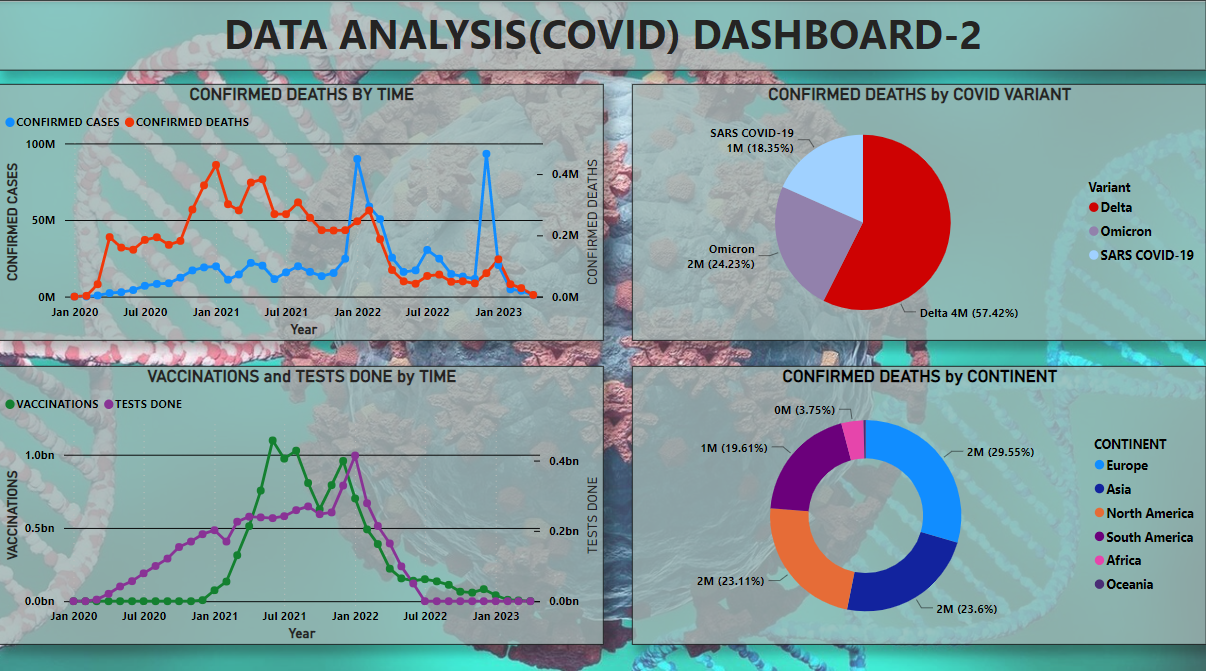

This screenshot's page, from the dashboard's own definition file:
{"tool":"powerbi","page":{"name":"Page 2","canvas":[1280,720],"ordinal":1},"visuals":[{"type":"textbox","box":[0,0,1279.5,74.7],"z":0},{"type":"lineChart","title":"CONFIRMED DEATHS BY TIME","fields":{"Category":["Cases and Deaths.date.Variation.Date Hierarchy.Year","Cases and Deaths.date.Variation.Date Hierarchy.Quarter","Cases and Deaths.date.Variation.Date Hierarchy.Month"],"Y":["Cases and Deaths.CONFIRMED CASES"],"Y2":["Cases and Deaths.CONFIRMED DEATHS"]},"box":[0,89,640.5,271.8],"z":1000},{"type":"pieChart","title":"CONFIRMED DEATHS by COVID VARIANT","fields":{"Category":["Cases and Deaths.Variant"],"Y":["Cases and Deaths.CONFIRMED DEATHS"]},"box":[670.7,89,608.7,271.8],"z":2000},{"type":"lineChart","title":"VACCINATIONS and TESTS DONE by TIME","fields":{"Y":["Tests and vaccinations.VACCINATIONS"],"Category":["Tests and vaccinations.date.Variation.Date Hierarchy.Year","Tests and vaccinations.date.Variation.Date Hierarchy.Quarter","Tests and vaccinations.date.Variation.Date Hierarchy.Month"],"Y2":["Tests and vaccinations.TESTS DONE"]},"box":[0,387.8,640.5,295.6],"z":3000},{"type":"donutChart","fields":{"Y":["Cases and Deaths.CONFIRMED DEATHS"],"Category":["Cases and Deaths.continent"]},"box":[670.7,387.8,608.7,295.6],"z":4000}]}

Visuals, with their boxes in screenshot pixels (x1, y1, x2, y2), scaled from the page's 1280x720 canvas onto the 1206x671 screenshot:
textbox: x1=0, y1=0, x2=1205, y2=70
"CONFIRMED DEATHS BY TIME" lineChart: x1=0, y1=83, x2=603, y2=336
"CONFIRMED DEATHS by COVID VARIANT" pieChart: x1=632, y1=83, x2=1205, y2=336
"VACCINATIONS and TESTS DONE by TIME" lineChart: x1=0, y1=361, x2=603, y2=637
donutChart - Cases and Deaths.CONFIRMED DEATHS x Cases and Deaths.continent: x1=632, y1=361, x2=1205, y2=637
